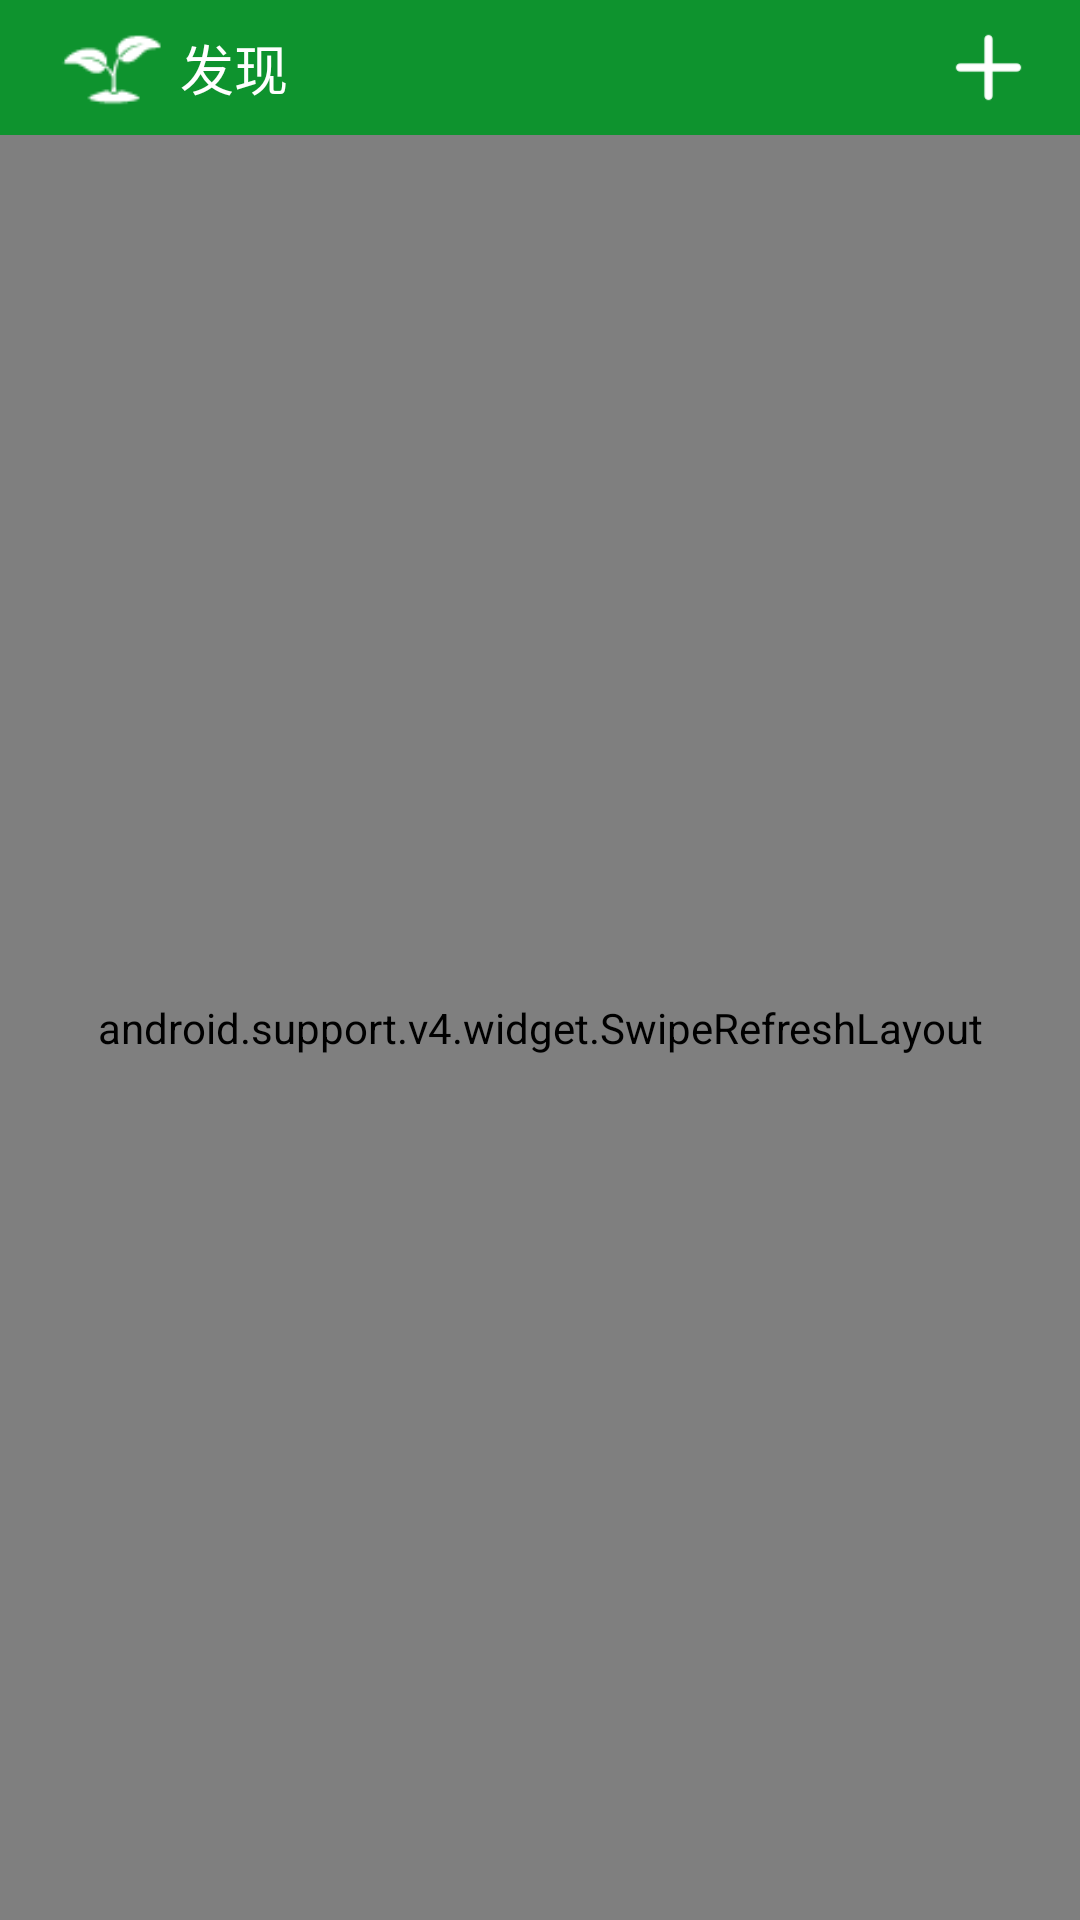

Named icons in this screenshot (1080px×1920px) and their bounding boxes, (x1, y1, x2, y2):
add action: (955, 34, 1022, 101)
